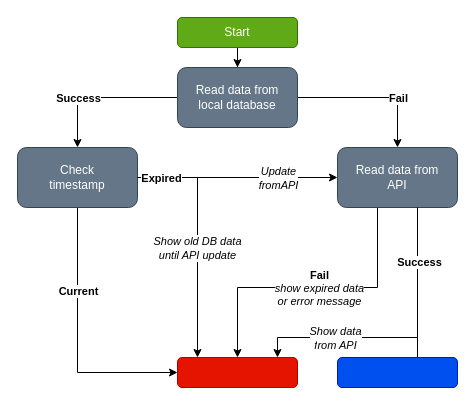
This 475x412 diagram has some shape labels left out. The centre of each missing label's shape, as x and y in pixels:
"Update DB" goes at (x=397, y=372).
"Update UI" goes at (x=237, y=372).
